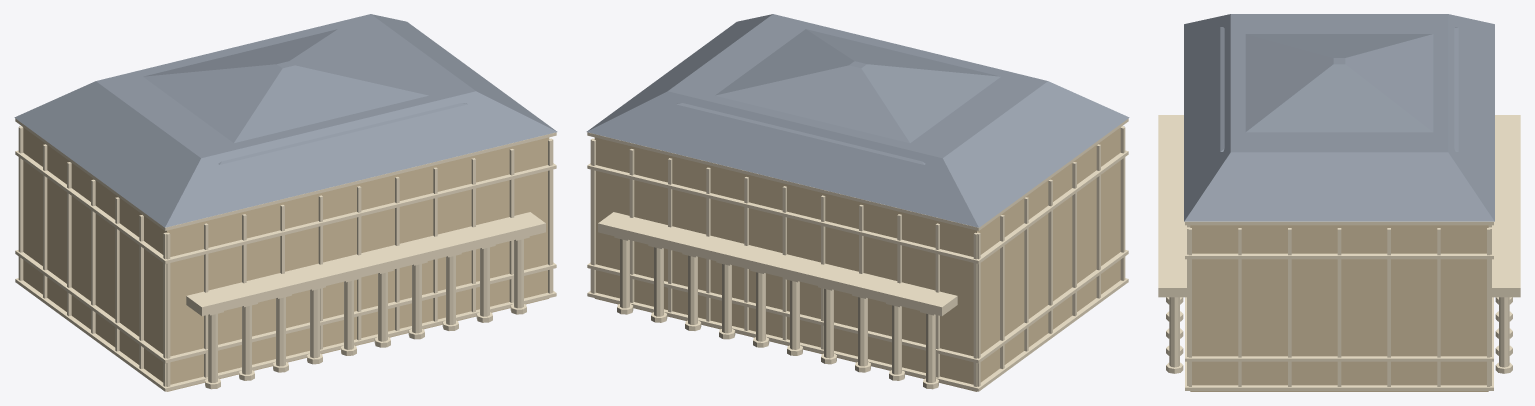
The model's file is heritage-0-lod1.glb.
3 renders of one model, left to right at view 1: azimuth 30°, elevation 25°; view 2: azimuth 150°, elevation 25°; view 3: azimuth 270°, elevation 25°, orthographic. The views are drawn at different scales.
Visible parts, largest first — view 1: heritage-0_architecture; view 2: heritage-0_architecture; view 3: heritage-0_architecture.
Part boxes in pixels (x1,y1,x2,y2): heritage-0_architecture: [14, 14, 557, 391]; heritage-0_architecture: [586, 14, 1129, 391]; heritage-0_architecture: [1158, 14, 1520, 391].
Bounding box in the file's own units: 29.8 × 16.5 × 23.1.
